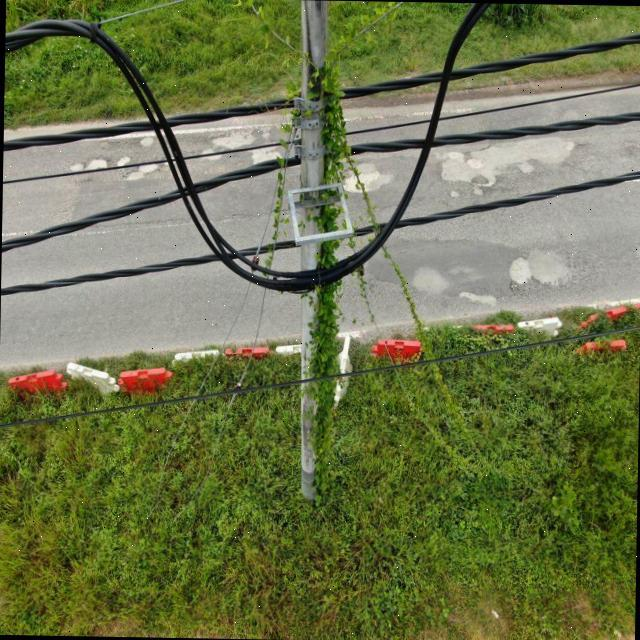critical vegetation: (246, 46, 501, 486)
